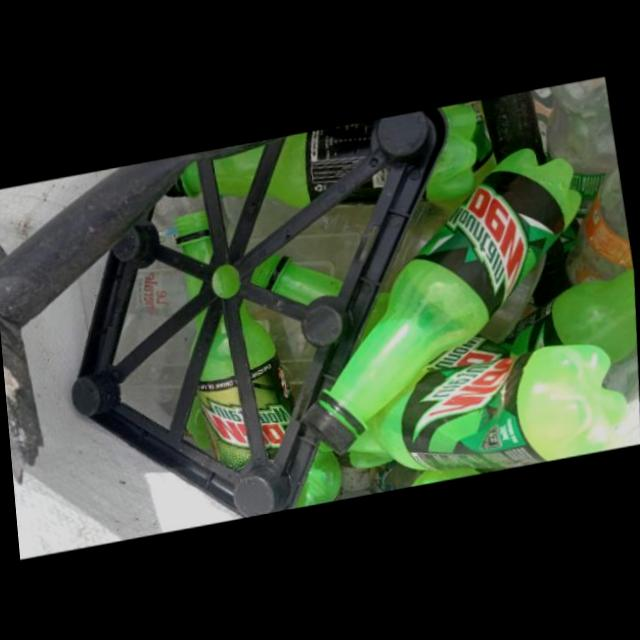chai_nhua: (307, 146, 584, 453), (350, 342, 630, 470), (503, 266, 640, 363), (268, 121, 373, 207), (426, 101, 479, 200), (213, 144, 266, 195), (337, 167, 390, 205), (166, 160, 204, 197)
chai_nhua_pet: (547, 75, 619, 218), (567, 161, 635, 284)
